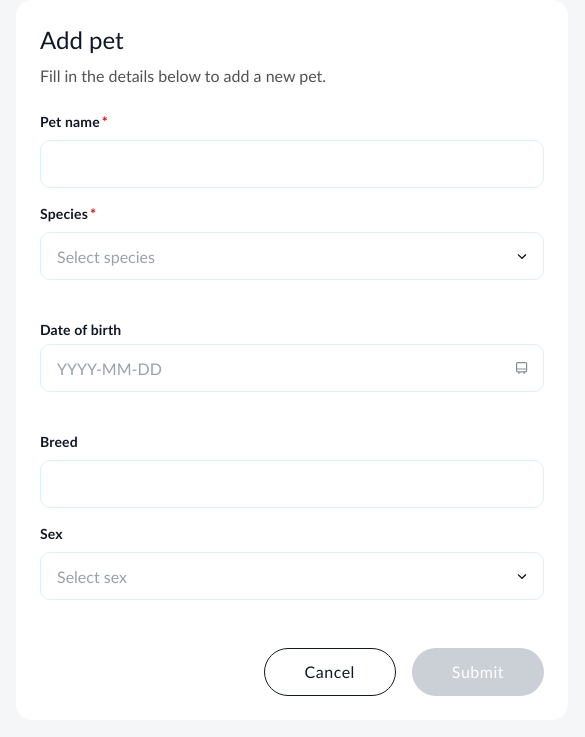
PetForm › shows date error when isSubmitted and date is invalid
# Fill only name and species, submit with empty date
In the field below "Pet name": (292, 164) [40,140,544,188], type "Buddy"
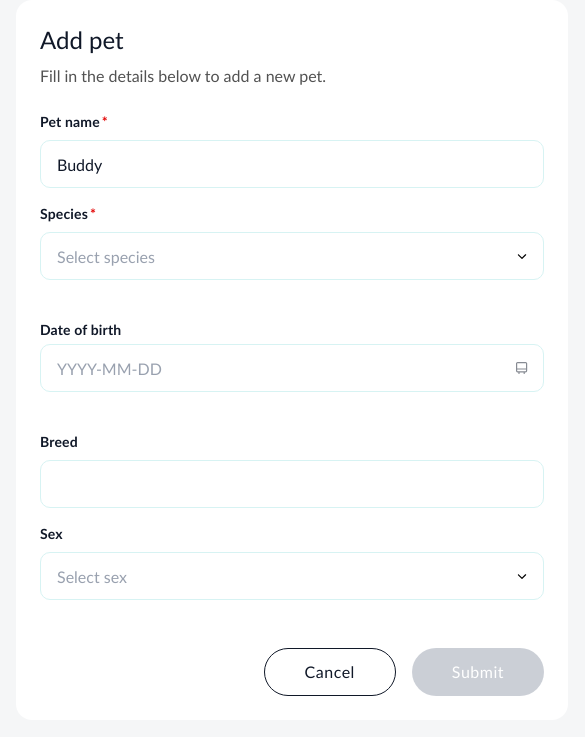
Click the field with placeholder "Select species": (292, 256) [40,232,544,280]
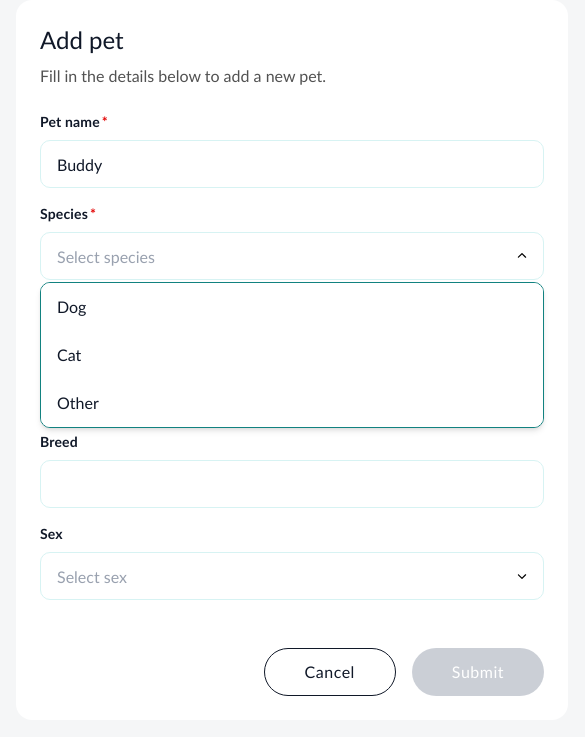
Click the button "Dog": (72, 306) [41,283,543,331]
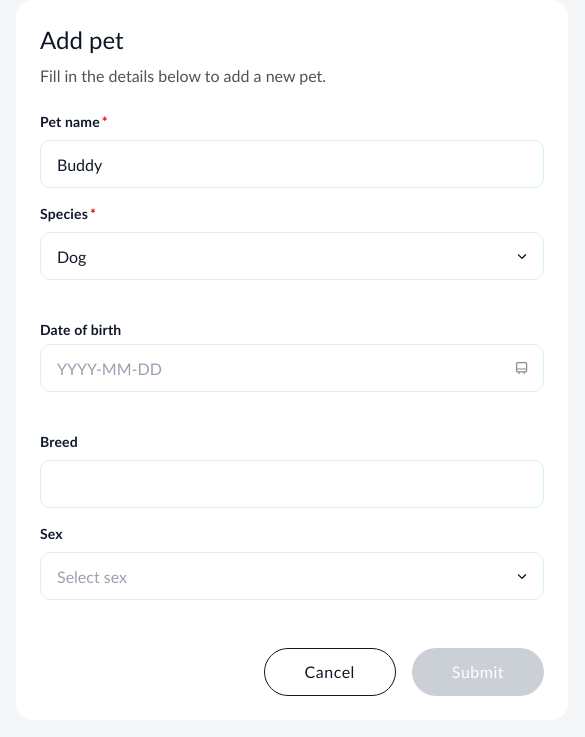
Submit the form
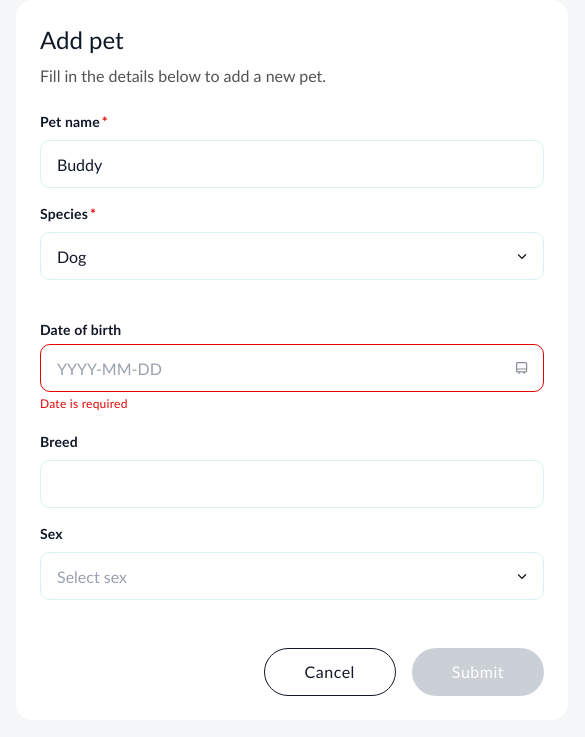
Check: the text "Date is required" is shown, box [40,396,128,411]
